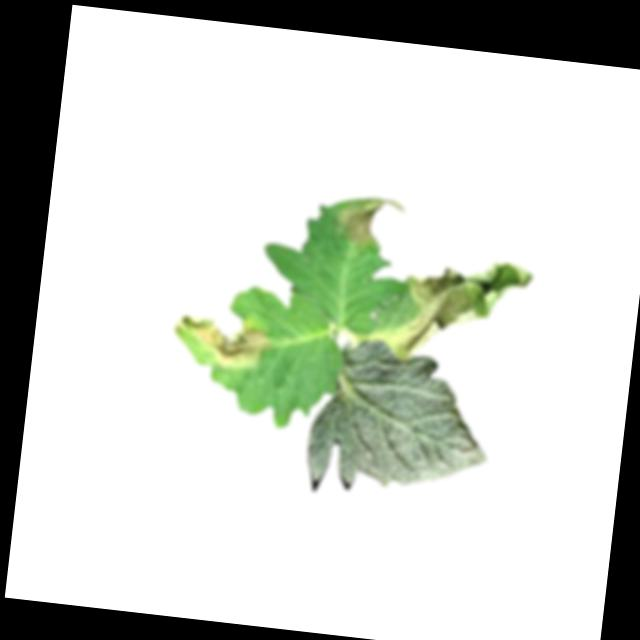Late_blight: (353, 244, 535, 377), (168, 313, 275, 377), (334, 192, 409, 249)
